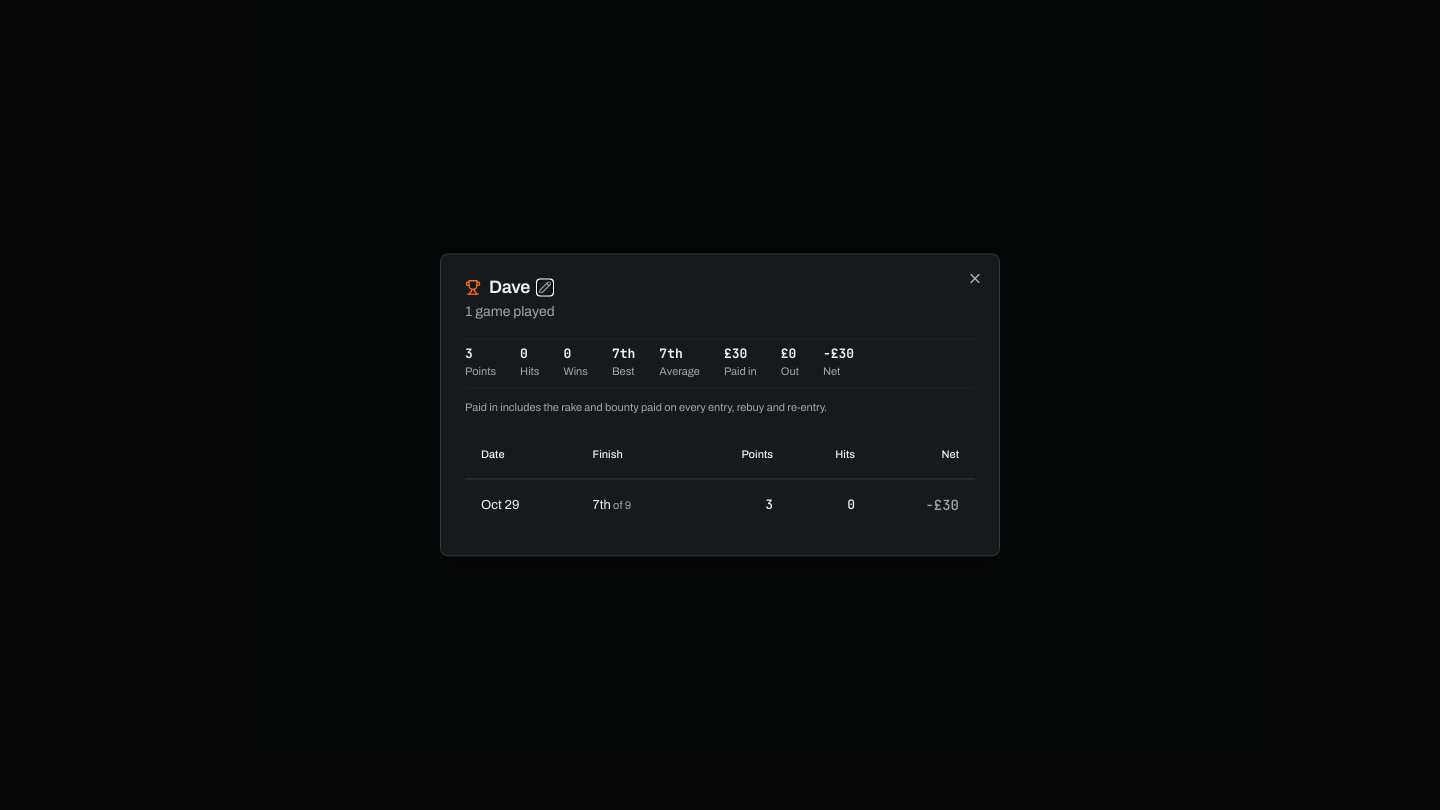
it: PlayerSeasonDialog › another player's name becomes a Merge, says so, and merges on press
This screenshot has width=1440, height=810.
Later steps or results of the test are not shown.
Click the button named "Rename Dave" at (545, 287), box x1=538 y1=280 x2=552 y2=294
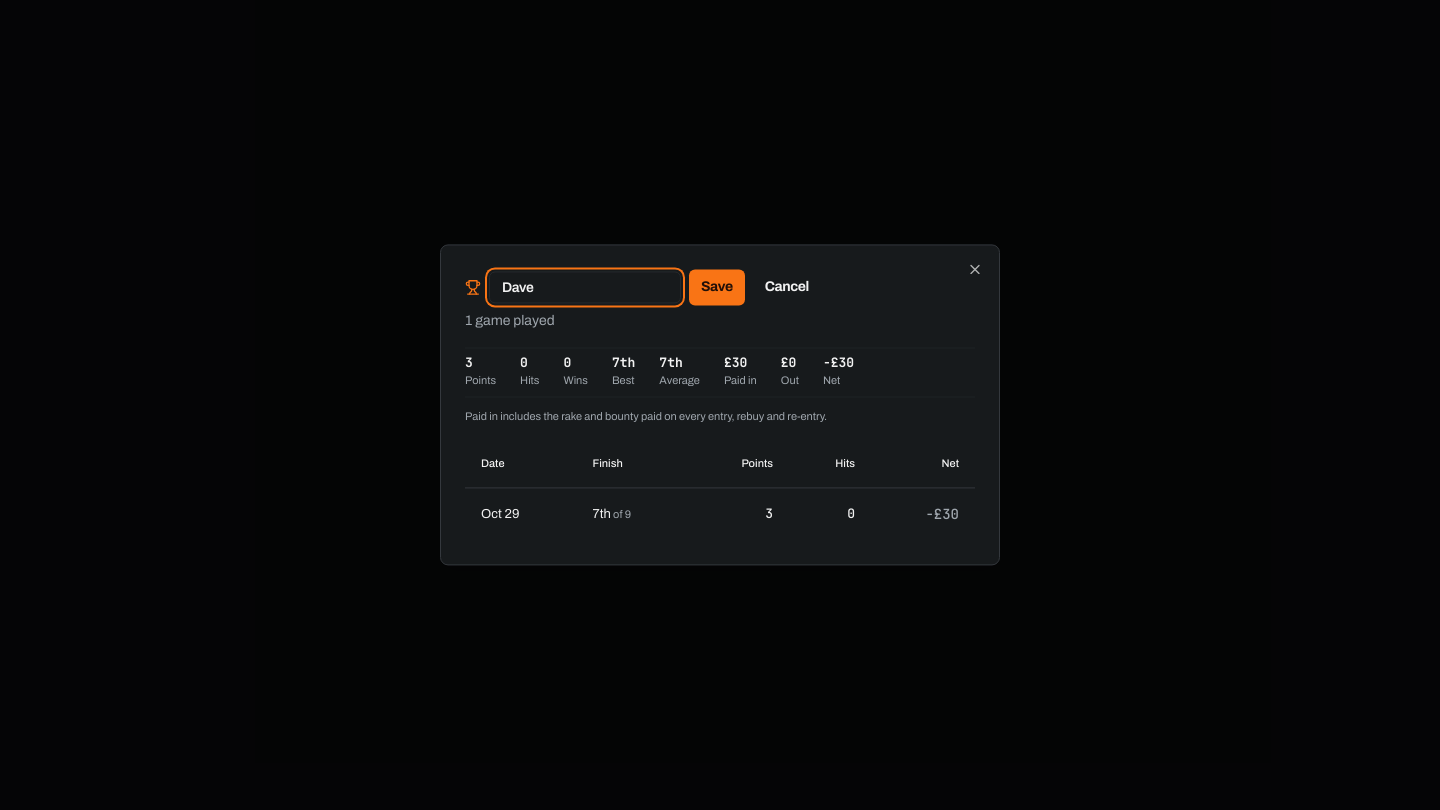
Replace the text in the field named "Player name" with "Amy" at (585, 287), box x1=489 y1=271 x2=681 y2=303
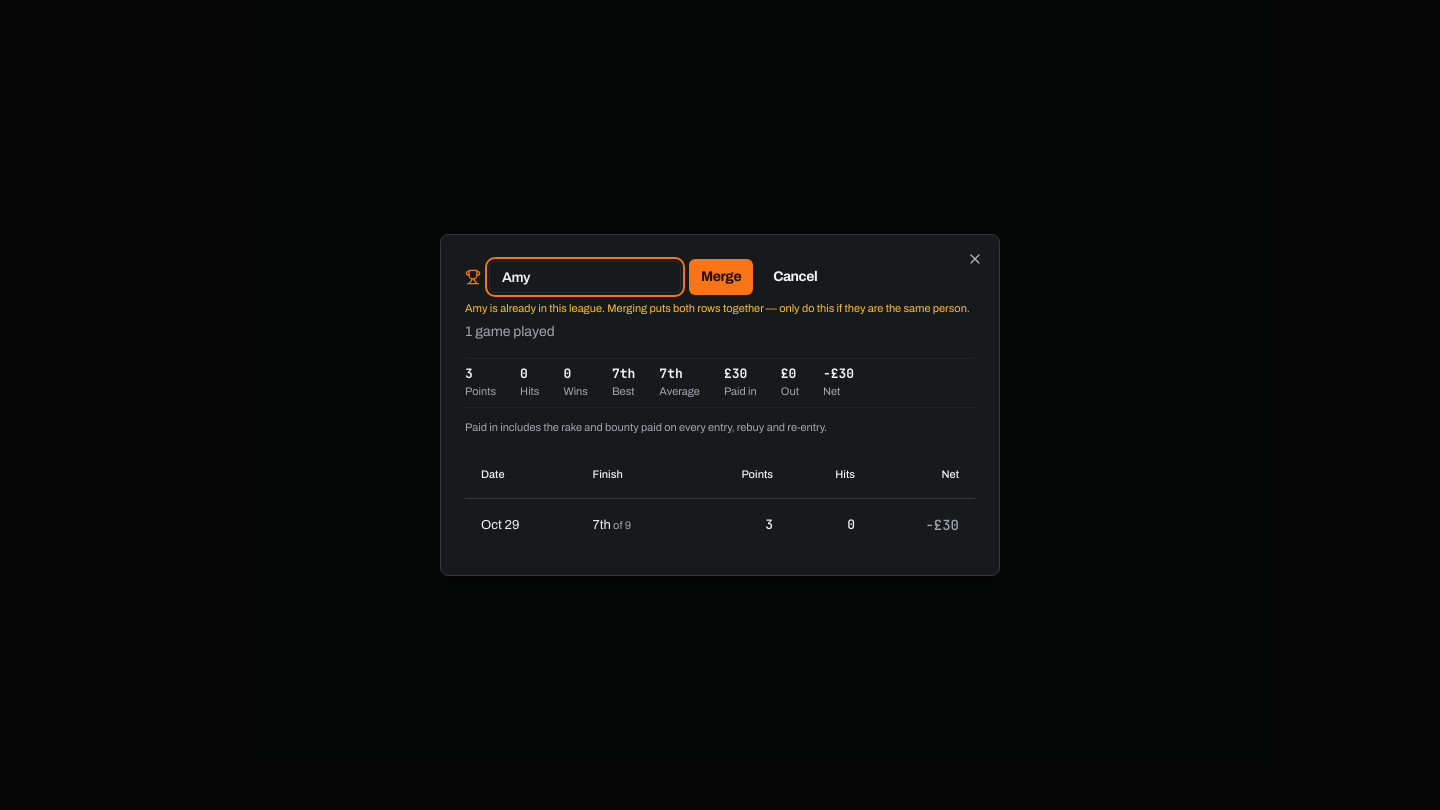
Now the text with test id "rename-merge-note" shows "same person", box x1=488 y1=302 x2=970 y2=314
